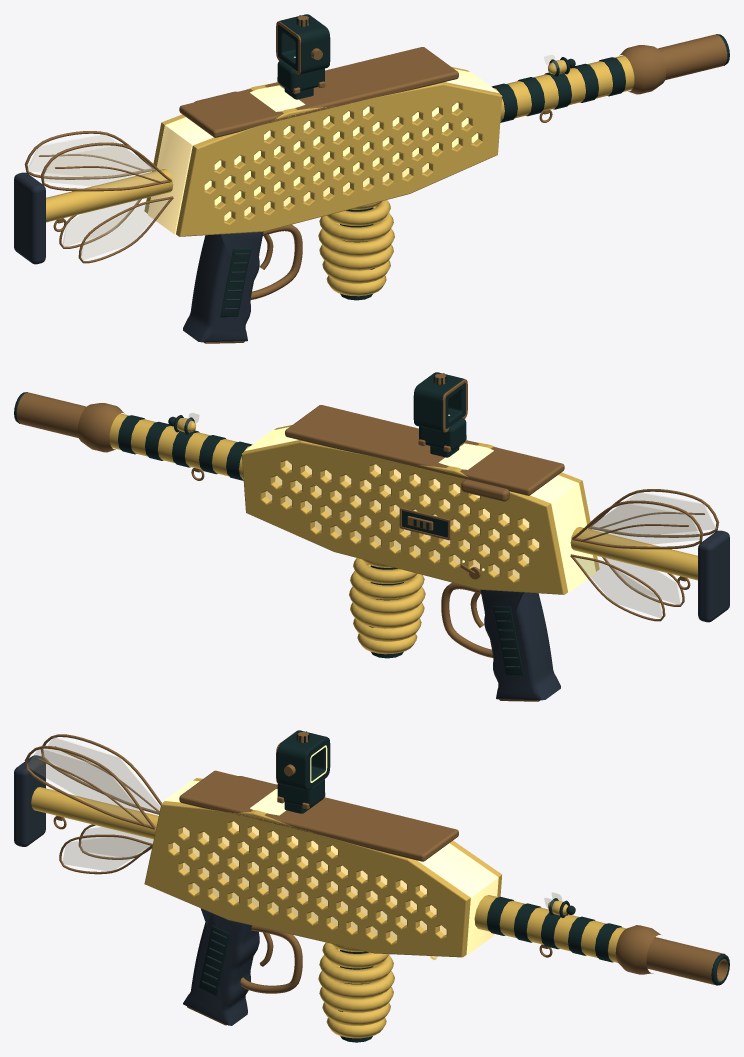
Rendered from amber-apiary.glb.
3 views of the same model, one above another, from view 1: azimuth 30°, elevation 25°; view 2: azimuth 150°, elevation 25°; view 3: azimuth 330°, elevation 25° (orthographic).
Parts seen in each view (by area): view 1: 01_Dawn_AR__body_Sculpt_coat, 01_Dawn_AR__body_Sculpt_metal, 01_Dawn_AR__stock_Sculpt_glass, 01_Dawn_AR__body_Sculpt_glow, 01_Dawn_AR__magazine_Sculpt_coat, 01_Dawn_AR__body_Sculpt_grip, 01_Dawn_AR__body_Sculpt_frame, 01_Dawn_AR__stock_Sculpt_metal, 01_Dawn_AR__optic_Sculpt_frame, 01_Dawn_AR__stock_Sculpt_coat, 01_Dawn_AR__stock_Sculpt_grip, 01_Dawn_AR__optic_Sculpt_metal; view 2: 01_Dawn_AR__body_Sculpt_coat, 01_Dawn_AR__body_Sculpt_metal, 01_Dawn_AR__stock_Sculpt_glass, 01_Dawn_AR__body_Sculpt_glow, 01_Dawn_AR__magazine_Sculpt_coat, 01_Dawn_AR__body_Sculpt_grip, 01_Dawn_AR__body_Sculpt_frame, 01_Dawn_AR__optic_Sculpt_frame, 01_Dawn_AR__stock_Sculpt_metal, 01_Dawn_AR__stock_Sculpt_coat, 01_Dawn_AR__stock_Sculpt_grip, 01_Dawn_AR__bolt_Sculpt_metal; view 3: 01_Dawn_AR__body_Sculpt_coat, 01_Dawn_AR__body_Sculpt_metal, 01_Dawn_AR__stock_Sculpt_glass, 01_Dawn_AR__body_Sculpt_glow, 01_Dawn_AR__magazine_Sculpt_coat, 01_Dawn_AR__body_Sculpt_grip, 01_Dawn_AR__body_Sculpt_frame, 01_Dawn_AR__optic_Sculpt_frame, 01_Dawn_AR__stock_Sculpt_metal, 01_Dawn_AR__stock_Sculpt_coat, 01_Dawn_AR__stock_Sculpt_grip.
Part boxes in pixels (left/top/right/bottom): 01_Dawn_AR__body_Sculpt_coat: left=144, top=55, right=634, bottom=236; 01_Dawn_AR__body_Sculpt_metal: left=179, top=34, right=727, bottom=343; 01_Dawn_AR__stock_Sculpt_glass: left=27, top=134, right=169, bottom=259; 01_Dawn_AR__body_Sculpt_glow: left=148, top=69, right=498, bottom=234; 01_Dawn_AR__magazine_Sculpt_coat: left=318, top=200, right=394, bottom=296; 01_Dawn_AR__body_Sculpt_grip: left=183, top=231, right=263, bottom=342; 01_Dawn_AR__body_Sculpt_frame: left=219, top=34, right=729, bottom=317; 01_Dawn_AR__stock_Sculpt_metal: left=24, top=131, right=173, bottom=263; 01_Dawn_AR__optic_Sculpt_frame: left=277, top=14, right=330, bottom=99; 01_Dawn_AR__stock_Sculpt_coat: left=46, top=169, right=173, bottom=222; 01_Dawn_AR__stock_Sculpt_grip: left=14, top=172, right=45, bottom=264; 01_Dawn_AR__optic_Sculpt_metal: left=276, top=15, right=325, bottom=94; 01_Dawn_AR__body_Sculpt_coat: left=109, top=413, right=599, bottom=594; 01_Dawn_AR__body_Sculpt_metal: left=16, top=392, right=564, bottom=701; 01_Dawn_AR__stock_Sculpt_glass: left=574, top=492, right=716, bottom=617; 01_Dawn_AR__body_Sculpt_glow: left=245, top=427, right=595, bottom=592; 01_Dawn_AR__magazine_Sculpt_coat: left=349, top=558, right=425, bottom=654; 01_Dawn_AR__body_Sculpt_grip: left=480, top=589, right=560, bottom=700; 01_Dawn_AR__body_Sculpt_frame: left=14, top=392, right=524, bottom=675; 01_Dawn_AR__optic_Sculpt_frame: left=413, top=372, right=466, bottom=457; 01_Dawn_AR__stock_Sculpt_metal: left=570, top=489, right=719, bottom=621; 01_Dawn_AR__stock_Sculpt_coat: left=570, top=527, right=697, bottom=580; 01_Dawn_AR__stock_Sculpt_grip: left=698, top=530, right=729, bottom=622; 01_Dawn_AR__bolt_Sculpt_metal: left=407, top=479, right=509, bottom=530; 01_Dawn_AR__body_Sculpt_coat: left=144, top=778, right=626, bottom=962; 01_Dawn_AR__body_Sculpt_metal: left=179, top=770, right=728, bottom=1025; 01_Dawn_AR__stock_Sculpt_glass: left=28, top=737, right=160, bottom=870; 01_Dawn_AR__body_Sculpt_glow: left=165, top=780, right=498, bottom=960; 01_Dawn_AR__magazine_Sculpt_coat: left=318, top=942, right=394, bottom=1038; 01_Dawn_AR__body_Sculpt_grip: left=183, top=908, right=259, bottom=1025; 01_Dawn_AR__body_Sculpt_frame: left=199, top=897, right=729, bottom=995; 01_Dawn_AR__optic_Sculpt_frame: left=276, top=730, right=330, bottom=813; 01_Dawn_AR__stock_Sculpt_metal: left=24, top=734, right=161, bottom=874; 01_Dawn_AR__stock_Sculpt_coat: left=31, top=787, right=158, bottom=839; 01_Dawn_AR__stock_Sculpt_grip: left=14, top=755, right=45, bottom=846.
Size of the model in its own units: 3.37 by 1.39 by 0.3534.
